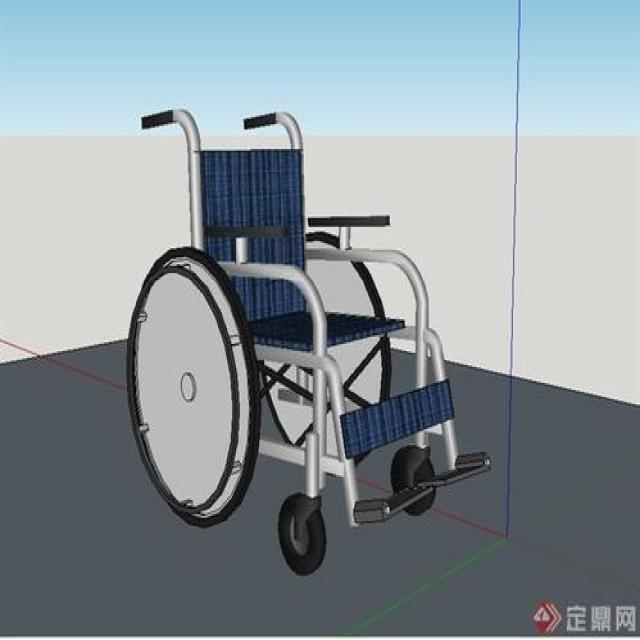wheelchairs: (114, 98, 498, 581)
